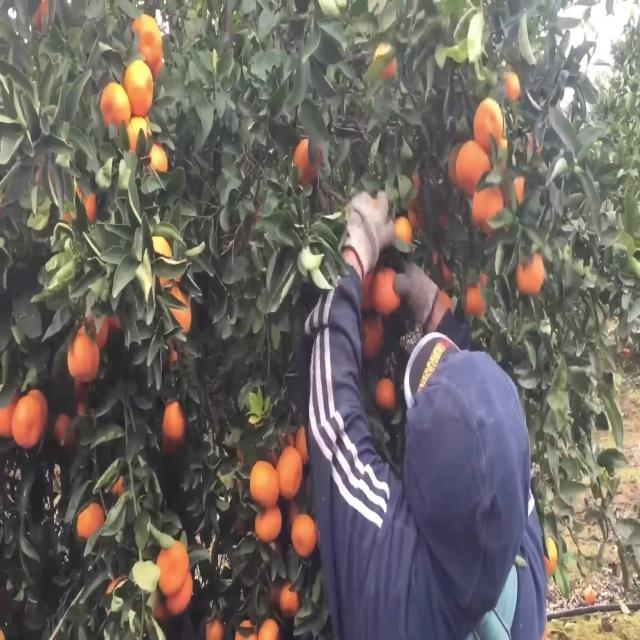Jeruk Sudah Matang: (152, 534, 195, 618), (120, 56, 159, 120), (9, 387, 48, 451), (96, 78, 136, 140), (128, 9, 166, 74), (275, 440, 310, 510), (244, 452, 283, 512), (472, 92, 508, 155), (249, 498, 285, 551), (65, 328, 99, 383), (512, 239, 548, 289), (162, 392, 186, 454), (290, 511, 318, 564)
